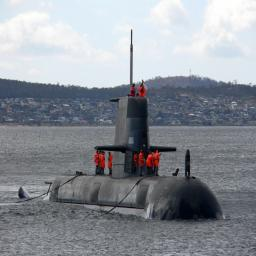submarine: (14, 24, 227, 219)
